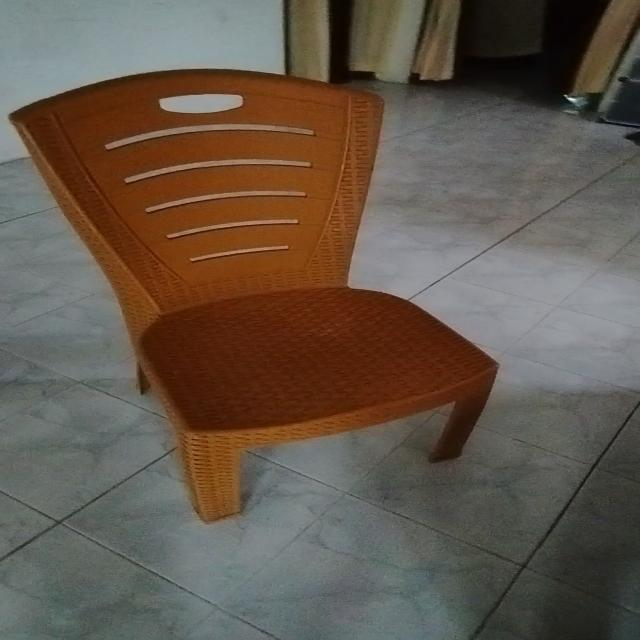chair: (0, 28, 606, 585)
